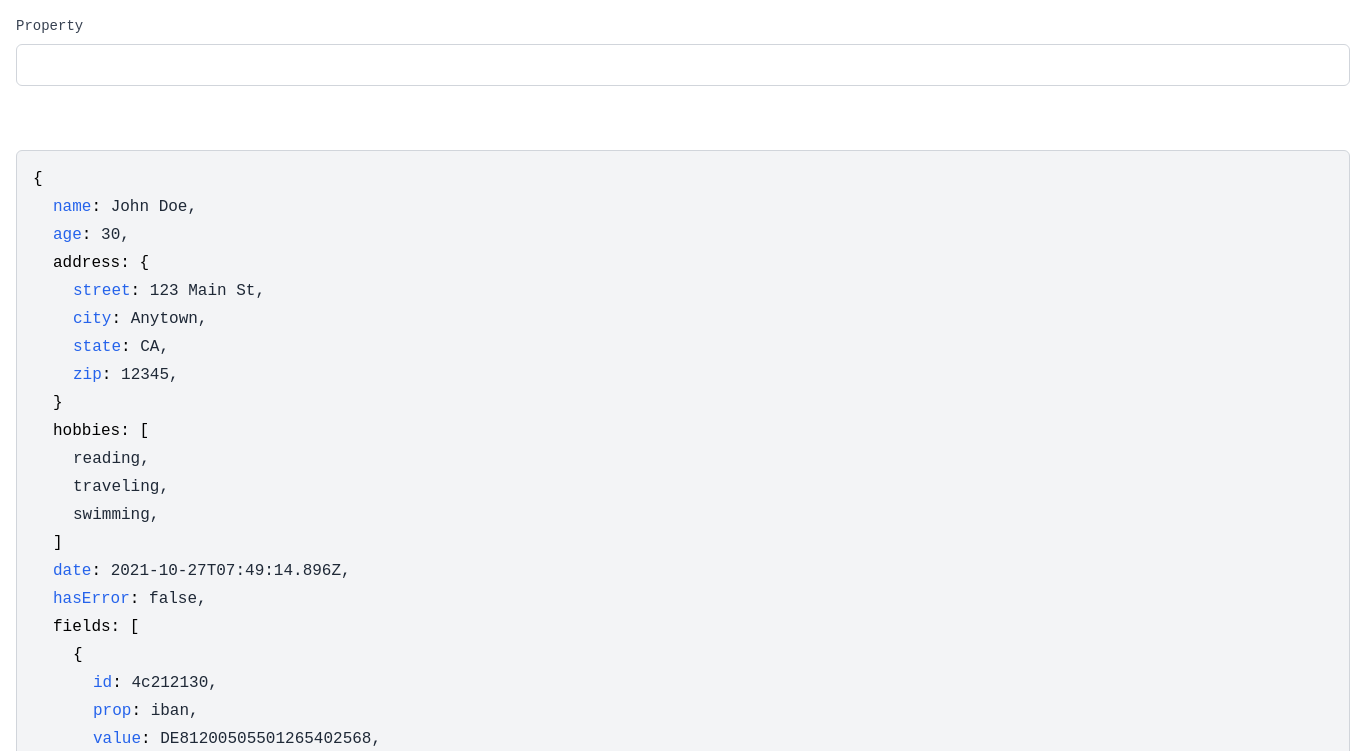
JsonExplorer › handleKeyClick updates state correctly
Step 1. Click the text "city" → (92, 319), box [73,310,111,328]
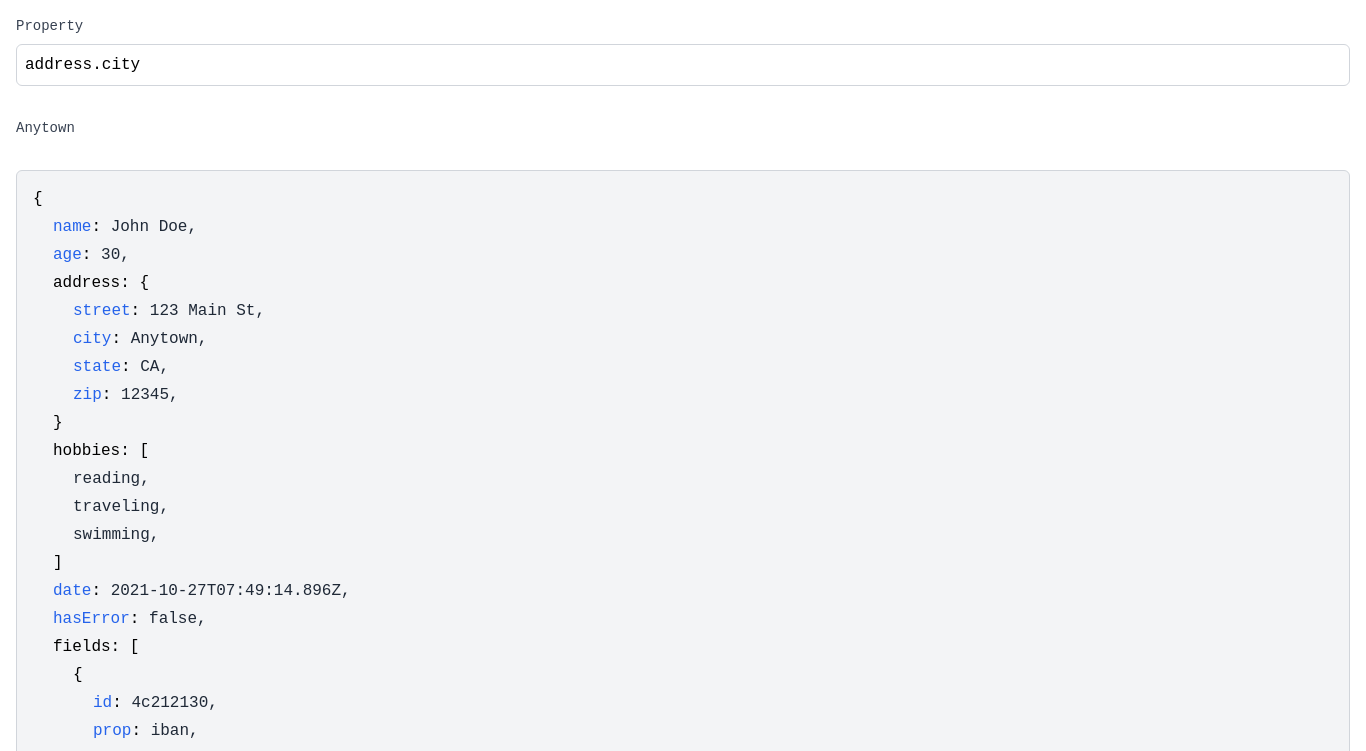
Expected: the field with test id "styledInput" holds "address.city", [16,44,1350,86]
Expected: the label with test id "styledInputLabel" reads "Anytown", [16,120,75,136]
